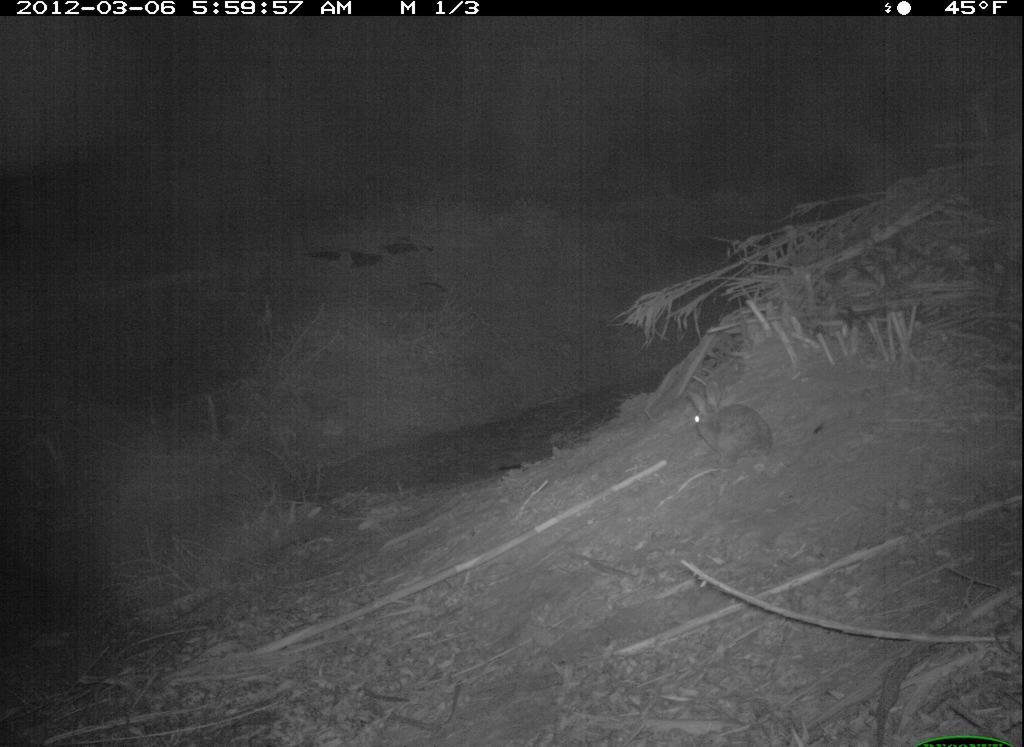rabbit: (680, 370, 781, 470)
